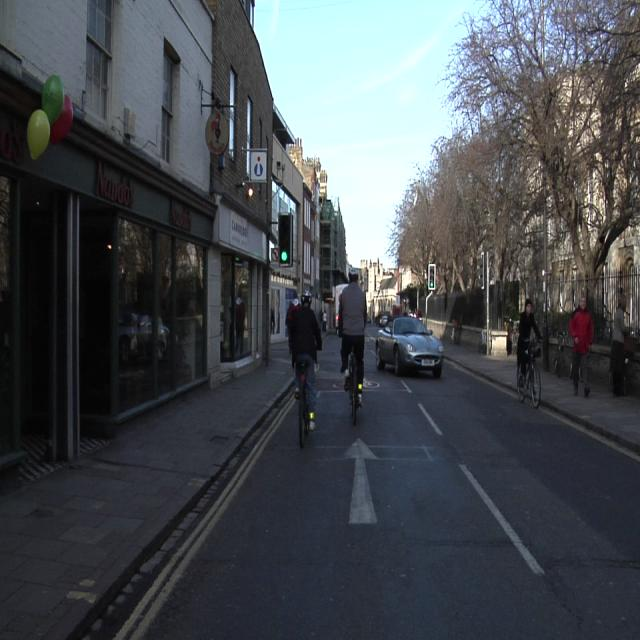Bicyclist: (289, 292, 322, 445), (338, 268, 366, 423), (517, 298, 541, 406)
Building: (2, 0, 347, 485)
Car: (374, 317, 442, 376)
Road: (145, 338, 637, 638)
Tree: (396, 1, 639, 290)
person: (570, 298, 593, 395), (612, 301, 627, 394)
